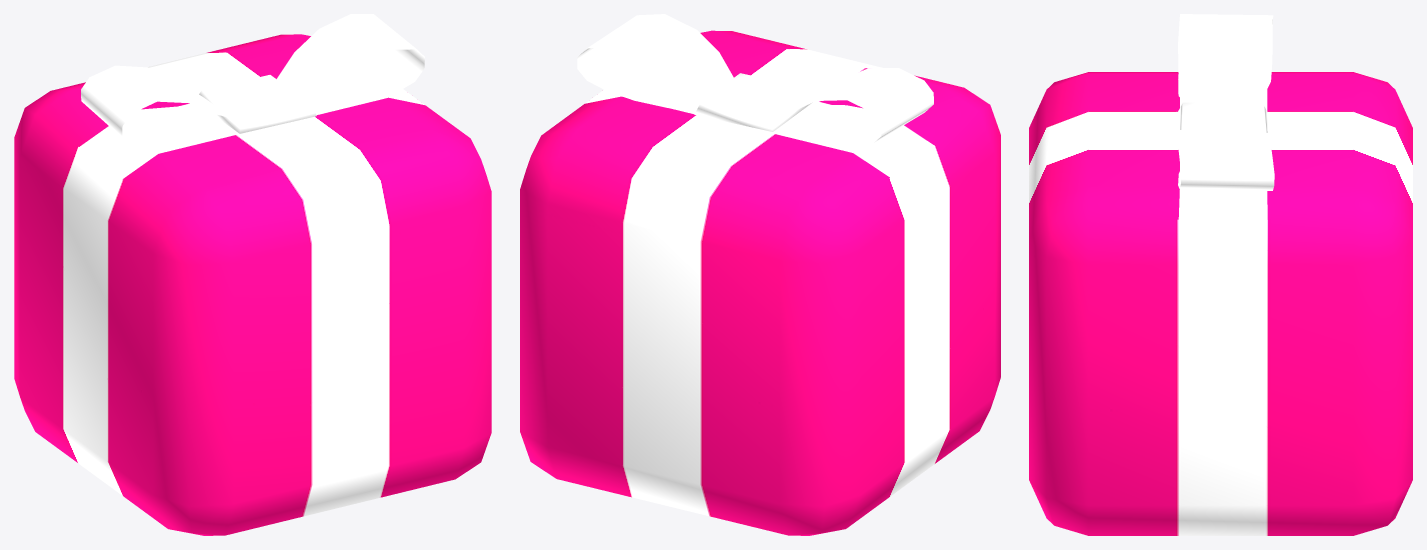
File: pink_gift.glb
The picture shows the model from 3 angles, left to right: view 1: azimuth 30°, elevation 25°; view 2: azimuth 150°, elevation 25°; view 3: azimuth 270°, elevation 25°; orthographic projection.
Parts seen in each view (by area): view 1: Pink_Gift; view 2: Pink_Gift; view 3: Pink_Gift.
Part boxes in pixels (bbox=[...]): Pink_Gift: bbox=[14, 14, 491, 535]; Pink_Gift: bbox=[520, 14, 1000, 535]; Pink_Gift: bbox=[1029, 14, 1412, 535].
Size of the model in its own units: 0.4562 by 0.5279 by 0.4562.
Materials: 1 (1 with a texture image).
